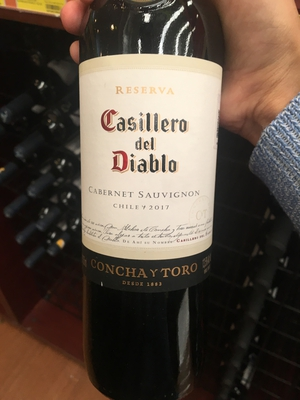casillero del diablo cabernet sauvignon: (75, 3, 225, 400)
